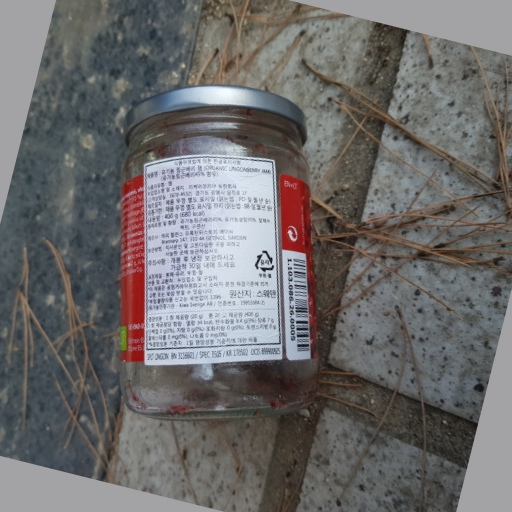Glass_5: (120, 87, 316, 417)
